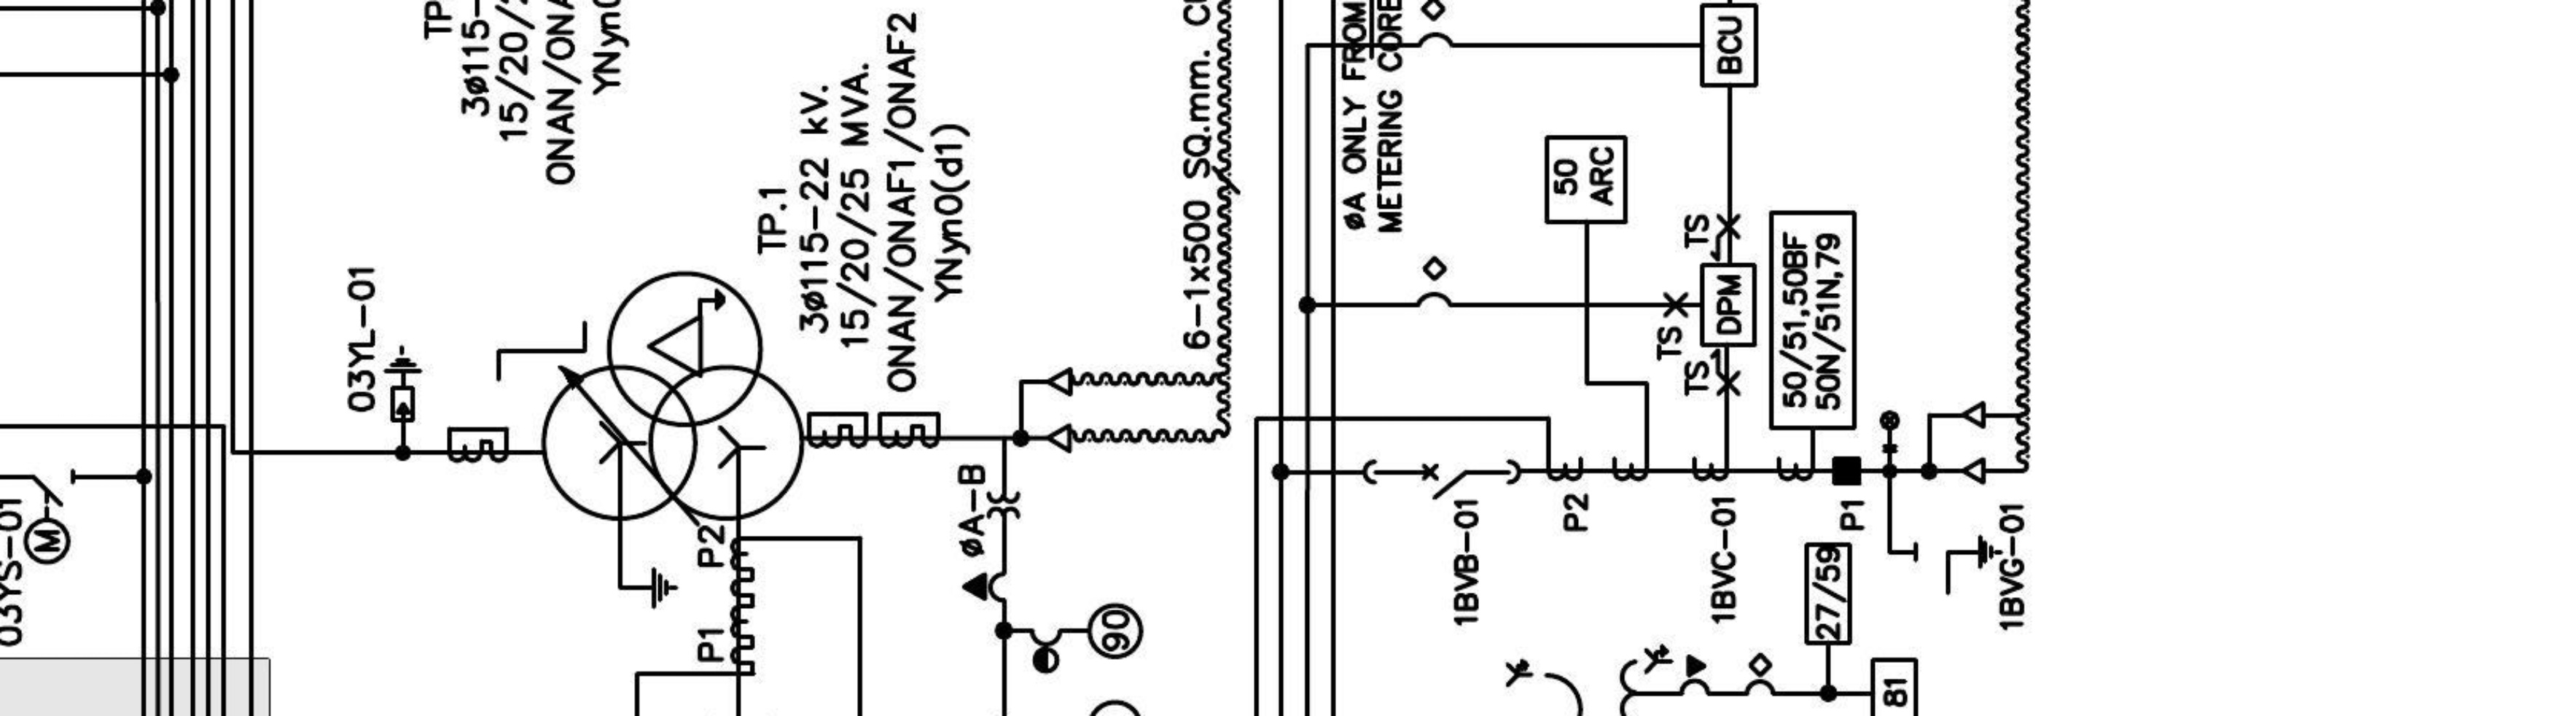11522_tx_ynyn0d1: (540, 269, 806, 522)
115_1way_ds_w_motor: (22, 468, 76, 566)
115_la: (382, 345, 424, 424)
22_breaker: (1362, 458, 1522, 500)
22_gs: (1913, 533, 2005, 597)
22_ll: (1878, 409, 1900, 454)
BCU: (1699, 2, 1760, 89)
DPM: (1699, 264, 1758, 349)
terminator_double: (1927, 400, 1987, 486), (1018, 366, 1073, 455)
